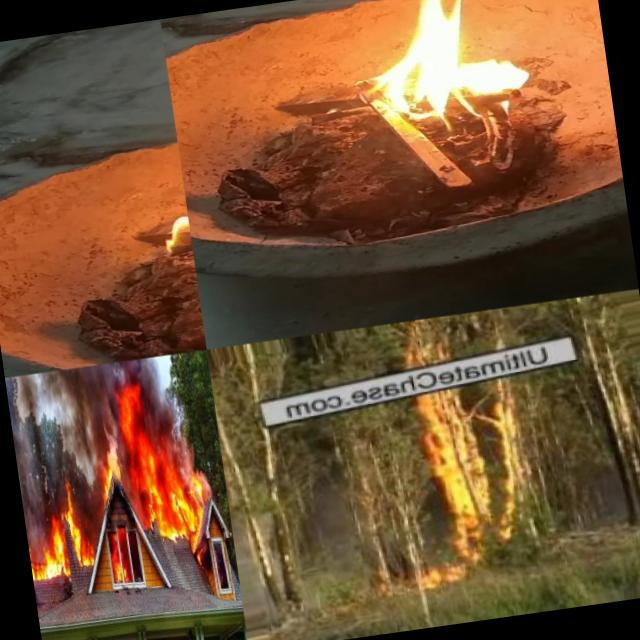fire: (333, 0, 550, 133), (418, 390, 530, 540), (136, 452, 184, 542), (116, 378, 154, 458), (27, 522, 72, 587), (175, 470, 208, 536), (65, 493, 95, 562), (95, 453, 122, 510), (111, 536, 133, 584)
smoke: (6, 376, 66, 549), (42, 362, 130, 453), (132, 356, 180, 454), (80, 448, 109, 554), (176, 430, 202, 501), (188, 448, 216, 512), (118, 460, 146, 522)
